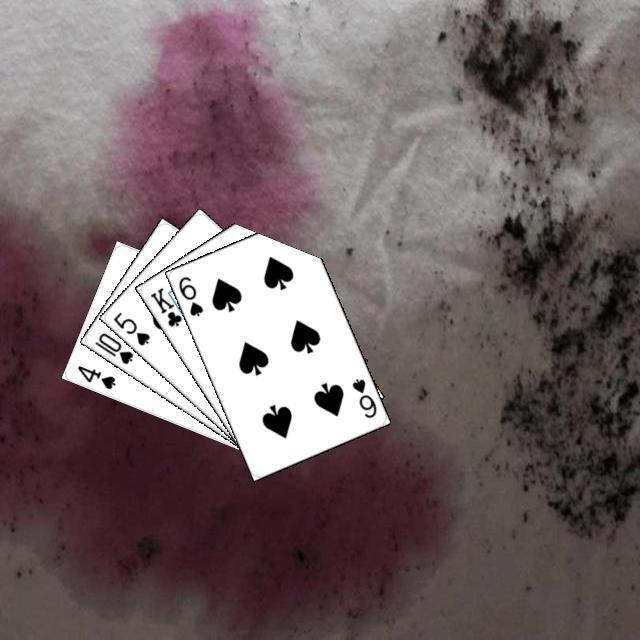10s: (90, 328, 135, 366)
4s: (72, 360, 117, 391)
5s: (108, 307, 152, 347)
6s: (173, 271, 205, 318), (347, 374, 378, 420)
Kc: (145, 282, 191, 328)
